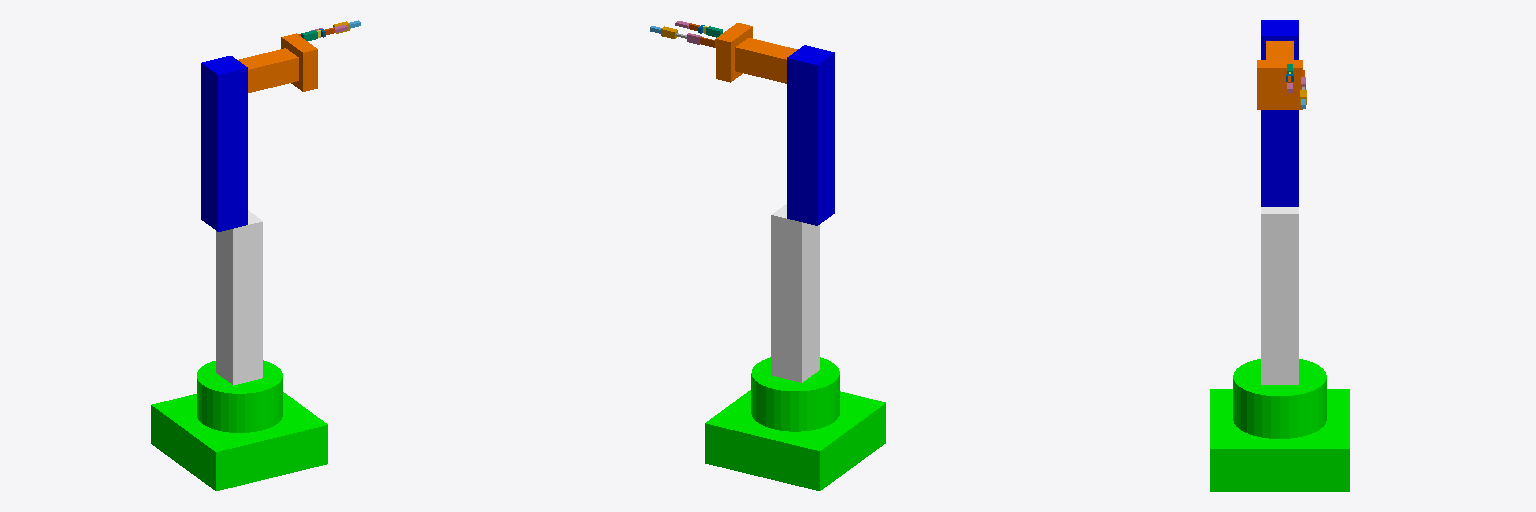
robot.urdf — robot:
<?xml version='1.0' encoding='utf-8'?>
<robot name="robot">
  <link name="base_link">
    <visual>
      <origin xyz="0 0 0.125" rpy="0 0 0" />
      <geometry>
        <box size="0.75 0.75 0.25" />
      </geometry>
      <material name="green" />
    </visual>
    <visual>
      <origin xyz="0 0 0.375" rpy="0 0 0" />
      <geometry>
        <cylinder length="0.25" radius="0.25" />
      </geometry>
      <material name="green">
        <color rgba="0 1 0 1" />
      </material>
    </visual>
    <collision>
      <geometry>
        <box size="0.75 0.75 0.5" />
      </geometry>
    </collision>
    <inertial>
      <mass value="0.5" />
      <inertia ixx="0.034" ixy="0.0" ixz="0.0" iyy="0.034" iyz="0.0" izz="0.034" />
    </inertial>
  </link>
  <link name="support_link">
    <visual>
      <origin xyz="0 0 0.5" rpy="0 0 0" />
      <geometry>
        <box size="0.2 0.2 1" />
      </geometry>
      <material name="white">
        <color rgba="1 1 1 1" />
      </material>
    </visual>
    <collision>
      <geometry>
        <box size="0.2 0.2 1" />
      </geometry>
    </collision>
    <inertial>
      <mass value="0.1" />
      <inertia ixx="0.01" ixy="0.0" ixz="0.0" iyy="0.01" iyz="0.0" izz="0.01" />
    </inertial>
  </link>
  <joint name="support_joint" type="continuous">
    <origin xyz="0 0 0.5" rpy="0 0 0" />
    <parent link="base_link" />
    <child link="support_link" />
    <axis xyz="0 0 1" />
  </joint>
  <link name="arm_link">
    <visual>
      <origin xyz="0 0 0.5" rpy="0 0 0" />
      <geometry>
        <box size="0.2 0.2 1" />
      </geometry>
      <material name="blue">
        <color rgba="0 0 1 1" />
      </material>
    </visual>
    <collision>
      <geometry>
        <box size="0.2 0.2 1" />
      </geometry>
    </collision>
    <inertial>
      <mass value="0.1" />
      <inertia ixx="0.01" ixy="0.0" ixz="0.0" iyy="0.01" iyz="0.0" izz="0.01" />
    </inertial>
  </link>
  <joint name="arm_joint" type="revolute">
    <origin xyz="-0.1 0 1" rpy="0 0 0" />
    <parent link="support_link" />
    <child link="arm_link" />
    <axis xyz="0 1 0" />
    <limit lower="-3.14" upper="3.14" effort="1.0" velocity="1.0" />
  </joint>
  <link name="wrist_link">
    <visual>
      <origin xyz="0 0 0.25" rpy="0 0 0" />
      <geometry>
        <box size="0.15 0.15 0.5" />
      </geometry>
      <material name="orange">
        <color rgba="1 0.5 0 1" />
      </material>
    </visual>
    <collision>
      <geometry>
        <box size="0.15 0.15 0.5" />
      </geometry>
    </collision>
    <inertial>
      <mass value="0.1" />
      <inertia ixx="0.01" ixy="0.0" ixz="0.0" iyy="0.01" iyz="0.0" izz="0.01" />
    </inertial>
  </link>
  <joint name="wrist_joint" type="fixed">
    <origin xyz="0 0 0.9" rpy="0 1.571 0" />
    <parent link="arm_link" />
    <child link="wrist_link" />
  </joint>
  <link name="palm_link">
    <visual>
      <origin xyz="0 0 0.05" rpy="0 0 0" />
      <geometry>
        <box size="0.25 0.25 0.1" />
      </geometry>
      <material name="orange" />
    </visual>
    <collision>
      <geometry>
        <box size="0.25 0.25 0.1" />
      </geometry>
    </collision>
    <inertial>
      <mass value="0.1" />
      <inertia ixx="0.01" ixy="0.0" ixz="0.0" iyy="0.01" iyz="0.0" izz="0.01" />
    </inertial>
  </link>
  <joint name="palm_joint" type="fixed">
    <origin xyz="0 0 0.45" rpy="0 0 0" />
    <parent link="wrist_link" />
    <child link="palm_link" />
  </joint>
  <link name="finger_link_0_0">
    <visual>
      <origin xyz="0 0 0.0485" rpy="0 0 0" />
      <geometry>
        <box size="0.043 0.011 0.097" />
      </geometry>
    </visual>
    <collision>
      <geometry>
        <box size="0.043 0.011 0.097" />
      </geometry>
    </collision>
    <inertial>
      <mass value="0.014" />
      <inertia ixx="0.0" iyy="0.0" izz="0.0" ixy="0" ixz="0" iyz="0" />
    </inertial>
  </link>
  <joint name="finger_joint_palm_link_to_finger_link_0_0" type="revolute">
    <origin xyz="-0.091 0.125 0.1" rpy="0 0 0" />
    <parent link="palm_link" />
    <child link="finger_link_0_0" />
    <axis xyz="-1.0 0.0 0.0" />
    <limit lower="-3.142" upper="3.142" effort="10" velocity="10" />
  </joint>
  <link name="finger_link_0_1">
    <visual>
      <origin xyz="0 0 0.041" rpy="0 0 0" />
      <geometry>
        <box size="0.048 0.022 0.082" />
      </geometry>
    </visual>
    <collision>
      <geometry>
        <box size="0.048 0.022 0.082" />
      </geometry>
    </collision>
    <inertial>
      <mass value="0.026" />
      <inertia ixx="0.0" iyy="0.0" izz="0.0" ixy="0" ixz="0" iyz="0" />
    </inertial>
  </link>
  <joint name="finger_joint_finger_link_0_0_to_finger_link_0_1" type="revolute">
    <origin xyz="0.0 0.0 0.097" rpy="0 0 0" />
    <parent link="finger_link_0_0" />
    <child link="finger_link_0_1" />
    <axis xyz="0.0 1.0 0.0" />
    <limit lower="-3.142" upper="3.142" effort="10" velocity="10" />
  </joint>
  <link name="finger_link_0_2">
    <visual>
      <origin xyz="0 0 0.038" rpy="0 0 0" />
      <geometry>
        <box size="0.013 0.016 0.076" />
      </geometry>
    </visual>
    <collision>
      <geometry>
        <box size="0.013 0.016 0.076" />
      </geometry>
    </collision>
    <inertial>
      <mass value="0.005" />
      <inertia ixx="0.0" iyy="0.0" izz="0.0" ixy="0" ixz="0" iyz="0" />
    </inertial>
  </link>
  <joint name="finger_joint_finger_link_0_1_to_finger_link_0_2" type="revolute">
    <origin xyz="0.0 0.0 0.082" rpy="0 0 0" />
    <parent link="finger_link_0_1" />
    <child link="finger_link_0_2" />
    <axis xyz="0.0 1.0 0.0" />
    <limit lower="-3.142" upper="3.142" effort="10" velocity="10" />
  </joint>
  <link name="finger_link_0_3">
    <visual>
      <origin xyz="0 0 0.045" rpy="0 0 0" />
      <geometry>
        <box size="0.044 0.04 0.09" />
      </geometry>
    </visual>
    <collision>
      <geometry>
        <box size="0.044 0.04 0.09" />
      </geometry>
    </collision>
    <inertial>
      <mass value="0.048" />
      <inertia ixx="0.0" iyy="0.0" izz="0.0" ixy="0" ixz="0" iyz="0" />
    </inertial>
  </link>
  <joint name="finger_joint_finger_link_0_2_to_finger_link_0_3" type="revolute">
    <origin xyz="0.0 0.0 0.076" rpy="0 0 0" />
    <parent link="finger_link_0_2" />
    <child link="finger_link_0_3" />
    <axis xyz="0.0 1.0 0.0" />
    <limit lower="-3.142" upper="3.142" effort="10" velocity="10" />
  </joint>
  <link name="finger_link_0_4">
    <visual>
      <origin xyz="0 0 0.0385" rpy="0 0 0" />
      <geometry>
        <box size="0.025 0.027 0.077" />
      </geometry>
    </visual>
    <collision>
      <geometry>
        <box size="0.025 0.027 0.077" />
      </geometry>
    </collision>
    <inertial>
      <mass value="0.016" />
      <inertia ixx="0.0" iyy="0.0" izz="0.0" ixy="0" ixz="0" iyz="0" />
    </inertial>
  </link>
  <joint name="finger_joint_finger_link_0_3_to_finger_link_0_4" type="revolute">
    <origin xyz="0.0 0.0 0.09" rpy="0 0 0" />
    <parent link="finger_link_0_3" />
    <child link="finger_link_0_4" />
    <axis xyz="0.0 1.0 0.0" />
    <limit lower="-3.142" upper="3.142" effort="10" velocity="10" />
  </joint>
  <link name="finger_link_1_0">
    <visual>
      <origin xyz="0 0 0.046" rpy="0 0 0" />
      <geometry>
        <box size="0.044 0.033 0.092" />
      </geometry>
    </visual>
    <collision>
      <geometry>
        <box size="0.044 0.033 0.092" />
      </geometry>
    </collision>
    <inertial>
      <mass value="0.04" />
      <inertia ixx="0.0" iyy="0.0" izz="0.0" ixy="0" ixz="0" iyz="0" />
    </inertial>
  </link>
  <joint name="finger_joint_palm_link_to_finger_link_1_0" type="revolute">
    <origin xyz="-0.125 0.053 0.1" rpy="0 0 0" />
    <parent link="palm_link" />
    <child link="finger_link_1_0" />
    <axis xyz="0.0 -1.0 0.0" />
    <limit lower="-3.142" upper="3.142" effort="10" velocity="10" />
  </joint>
  <link name="finger_link_1_1">
    <visual>
      <origin xyz="0 0 0.0145" rpy="0 0 0" />
      <geometry>
        <box size="0.042 0.011 0.029" />
      </geometry>
    </visual>
    <collision>
      <geometry>
        <box size="0.042 0.011 0.029" />
      </geometry>
    </collision>
    <inertial>
      <mass value="0.004" />
      <inertia ixx="0.0" iyy="0.0" izz="0.0" ixy="0" ixz="0" iyz="0" />
    </inertial>
  </link>
  <joint name="finger_joint_finger_link_1_0_to_finger_link_1_1" type="revolute">
    <origin xyz="0.0 0.0 0.092" rpy="0 0 0" />
    <parent link="finger_link_1_0" />
    <child link="finger_link_1_1" />
    <axis xyz="0.0 1.0 0.0" />
    <limit lower="-3.142" upper="3.142" effort="10" velocity="10" />
  </joint>
  <link name="finger_link_1_2">
    <visual>
      <origin xyz="0 0 0.0095" rpy="0 0 0" />
      <geometry>
        <box size="0.035 0.046 0.019" />
      </geometry>
    </visual>
    <collision>
      <geometry>
        <box size="0.035 0.046 0.019" />
      </geometry>
    </collision>
    <inertial>
      <mass value="0.009" />
      <inertia ixx="0.0" iyy="0.0" izz="0.0" ixy="0" ixz="0" iyz="0" />
    </inertial>
  </link>
  <joint name="finger_joint_finger_link_1_1_to_finger_link_1_2" type="revolute">
    <origin xyz="0.0 0.0 0.029" rpy="0 0 0" />
    <parent link="finger_link_1_1" />
    <child link="finger_link_1_2" />
    <axis xyz="1.0 0.0 0.0" />
    <limit lower="-3.142" upper="3.142" effort="10" velocity="10" />
  </joint>
  <link name="finger_link_1_3">
    <visual>
      <origin xyz="0 0 0.0345" rpy="0 0 0" />
      <geometry>
        <box size="0.031 0.016 0.069" />
      </geometry>
    </visual>
    <collision>
      <geometry>
        <box size="0.031 0.016 0.069" />
      </geometry>
    </collision>
    <inertial>
      <mass value="0.01" />
      <inertia ixx="0.0" iyy="0.0" izz="0.0" ixy="0" ixz="0" iyz="0" />
    </inertial>
  </link>
  <joint name="finger_joint_finger_link_1_2_to_finger_link_1_3" type="revolute">
    <origin xyz="0.0 0.0 0.019" rpy="0 0 0" />
    <parent link="finger_link_1_2" />
    <child link="finger_link_1_3" />
    <axis xyz="1.0 0.0 0.0" />
    <limit lower="-3.142" upper="3.142" effort="10" velocity="10" />
  </joint>
  <link name="finger_link_1_4">
    <visual>
      <origin xyz="0 0 0.042" rpy="0 0 0" />
      <geometry>
        <box size="0.019 0.033 0.084" />
      </geometry>
    </visual>
    <collision>
      <geometry>
        <box size="0.019 0.033 0.084" />
      </geometry>
    </collision>
    <inertial>
      <mass value="0.016" />
      <inertia ixx="0.0" iyy="0.0" izz="0.0" ixy="0" ixz="0" iyz="0" />
    </inertial>
  </link>
  <joint name="finger_joint_finger_link_1_3_to_finger_link_1_4" type="revolute">
    <origin xyz="0.0 0.0 0.069" rpy="0 0 0" />
    <parent link="finger_link_1_3" />
    <child link="finger_link_1_4" />
    <axis xyz="1.0 0.0 0.0" />
    <limit lower="-3.142" upper="3.142" effort="10" velocity="10" />
  </joint>
</robot>

--- Render facts (derived) ---
Views: 3 orthographic renders of the robot side by side, from view 1: azimuth 30°, elevation 25°; view 2: azimuth 150°, elevation 25°; view 3: azimuth 270°, elevation 25°.
Model robot with 15 links and 14 joints (11 revolute, 1 continuous, 2 fixed), rooted at base_link, posed every joint at zero.
Visible links, largest first — view 1: base_link, arm_link, support_link, wrist_link, palm_link; view 2: base_link, arm_link, support_link, wrist_link, palm_link; view 3: base_link, support_link, arm_link, palm_link, wrist_link.
Boxes of the visible links, x1,y1,x2,y2 form: base_link: (151, 360, 327, 490); arm_link: (201, 56, 247, 231); support_link: (216, 210, 262, 385); wrist_link: (238, 48, 298, 92); palm_link: (281, 33, 317, 91); base_link: (705, 357, 885, 490); arm_link: (787, 45, 834, 225); support_link: (771, 204, 819, 382); wrist_link: (735, 38, 797, 83); palm_link: (715, 23, 752, 82); base_link: (1210, 359, 1349, 491); support_link: (1261, 207, 1298, 384); arm_link: (1261, 20, 1298, 206); palm_link: (1257, 60, 1302, 109); wrist_link: (1266, 41, 1293, 59).
Bounding box of the posed robot: 1.25 × 0.75 × 2.55 m (x, y, z).
Geometry: primitives only (box / cylinder / sphere), no mesh files.
